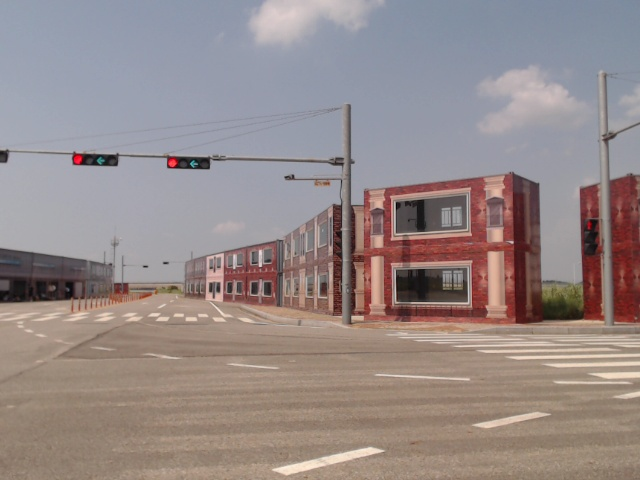left_green_4: (72, 152, 119, 167), (167, 156, 211, 170)
